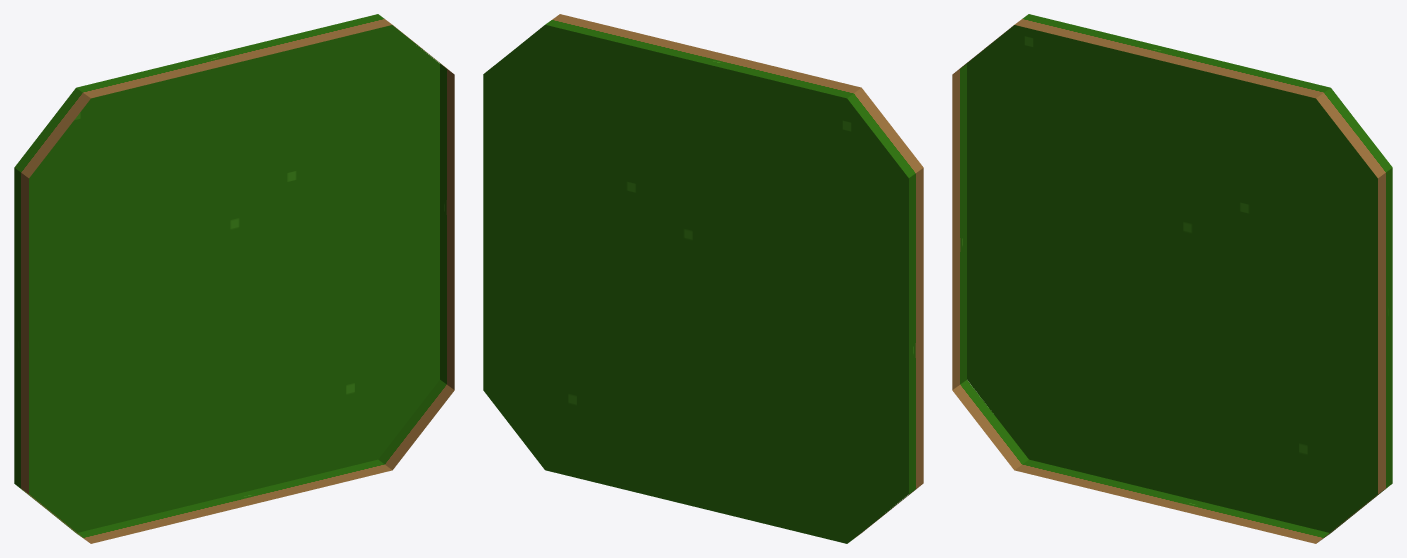
Rendered from BG_GroundGrass.fbx.
3 renders of one model, left to right at view 1: azimuth 30°, elevation 25°; view 2: azimuth 150°, elevation 25°; view 3: azimuth 330°, elevation 25°, orthographic.
Visible parts, largest first — view 1: BG_GroundGrass; view 2: BG_GroundGrass; view 3: BG_GroundGrass.
Boxes of the visible parts, <box> form: BG_GroundGrass: <box>14,14,454,543</box>; BG_GroundGrass: <box>483,14,923,543</box>; BG_GroundGrass: <box>952,14,1392,543</box>.
Size of the model in its own units: 5000 by 5000 by 300.
1 material, 1 textured.
